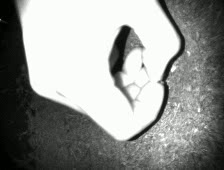corn: (168, 62, 179, 75)
